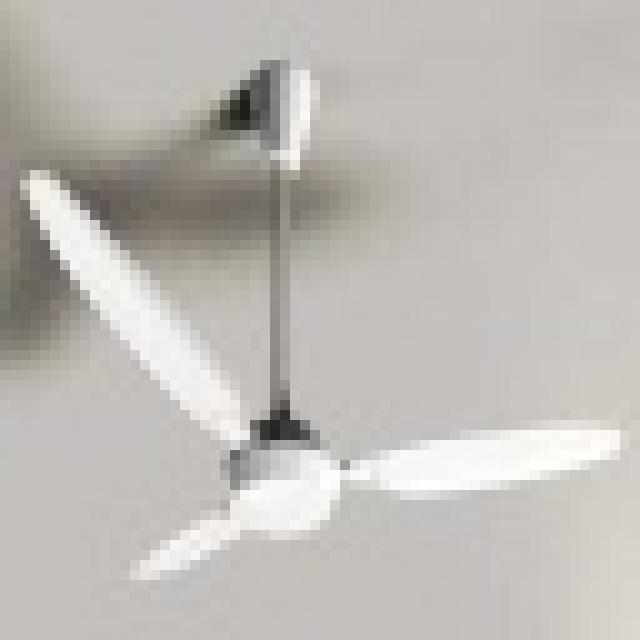Bulb: (6, 119, 640, 604)
